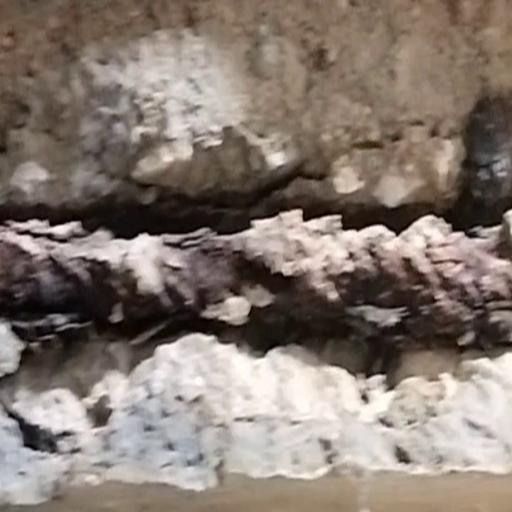spalling: (0, 109, 512, 432)
